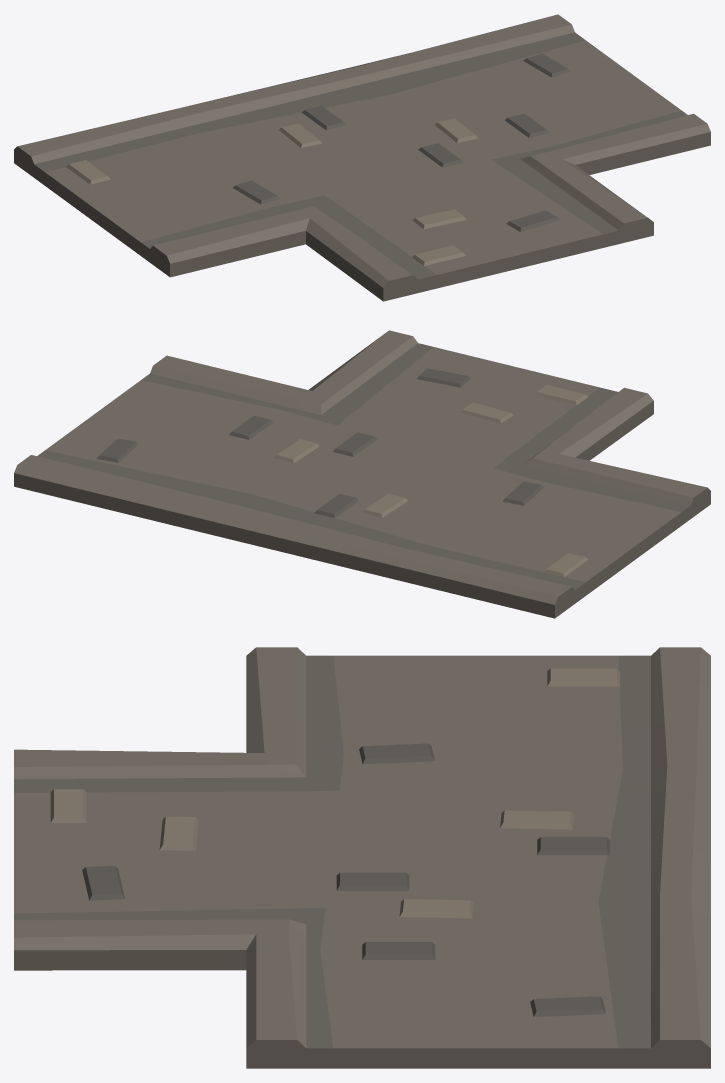
File: SM_Env_Path_T_01.fbx
3 views of the same model, one above another, from view 1: azimuth 30°, elevation 25°; view 2: azimuth 150°, elevation 25°; view 3: azimuth 270°, elevation 25° (orthographic). The views are drawn at different scales.
Parts seen in each view (by area): view 1: SM_Env_Path_T_01; view 2: SM_Env_Path_T_01; view 3: SM_Env_Path_T_01.
Boxes of the visible parts, x1,y1,x2,y2 form: SM_Env_Path_T_01: [14, 14, 710, 301]; SM_Env_Path_T_01: [14, 330, 710, 618]; SM_Env_Path_T_01: [14, 647, 710, 1068].
Size of the model in its own units: 500 by 17.05 by 375.
